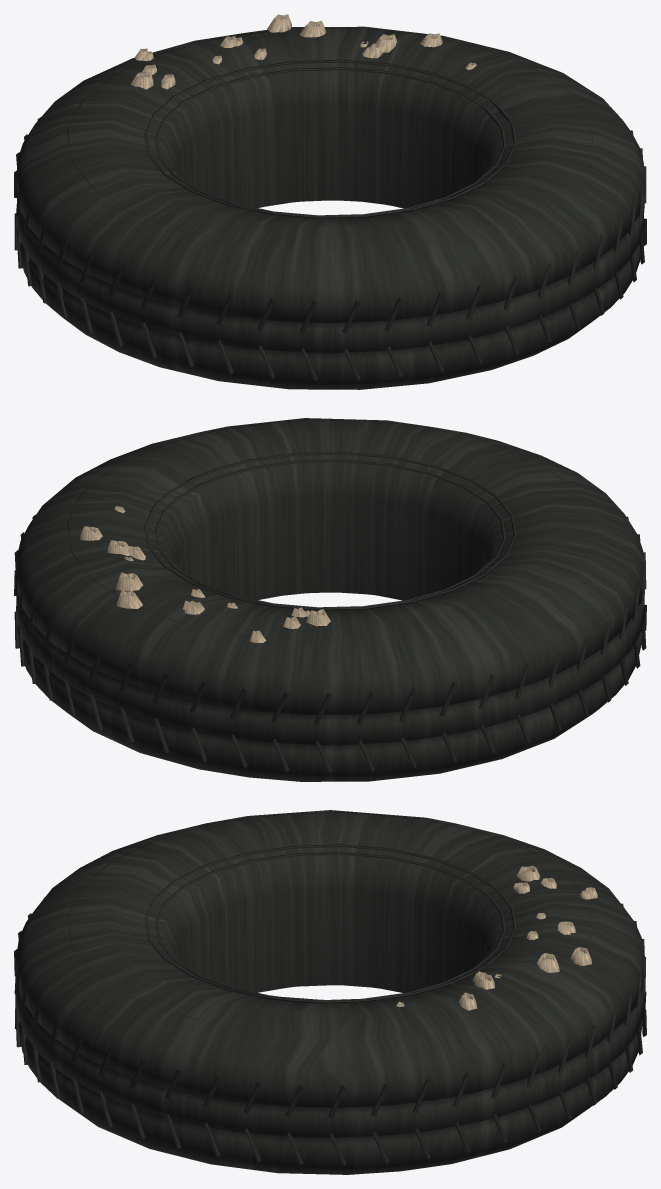
The model's file is discarded-tyre.glb.
3 renders of one model, top to bottom at view 1: azimuth 30°, elevation 25°; view 2: azimuth 150°, elevation 25°; view 3: azimuth 270°, elevation 25°, orthographic.
Parts seen in each view (by area): view 1: LOD0; view 2: LOD0; view 3: LOD0.
Boxes of the visible parts, box(x1,y1,x2,y2) form: LOD0: box(14, 14, 646, 389); LOD0: box(14, 418, 646, 781); LOD0: box(14, 810, 646, 1174).
Size of what is drawn, in the model's own units: 0.9078 by 0.247 by 0.9075.
Materials: 1 (1 with a texture image).
